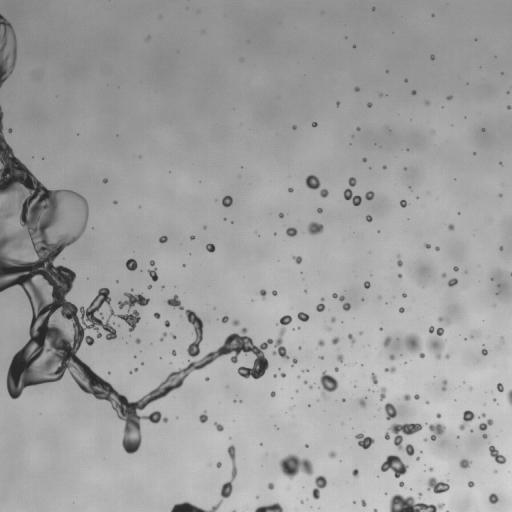droplet: (384, 423, 422, 455), (279, 454, 313, 479), (380, 454, 408, 478), (320, 371, 338, 398), (405, 333, 424, 358), (427, 477, 449, 493), (428, 422, 445, 440), (355, 433, 374, 449), (305, 175, 320, 189), (167, 295, 182, 309), (384, 403, 396, 420), (308, 222, 323, 234), (125, 258, 137, 270), (147, 268, 158, 281), (222, 195, 232, 207), (297, 312, 309, 321), (488, 493, 498, 503), (286, 227, 297, 236), (459, 459, 470, 468), (365, 191, 374, 200), (206, 243, 215, 252), (383, 336, 391, 346), (348, 177, 356, 186), (448, 278, 457, 286), (316, 302, 324, 311), (199, 413, 207, 422), (214, 423, 223, 431), (438, 317, 448, 324), (385, 366, 395, 373), (320, 189, 328, 197), (158, 236, 167, 243), (359, 398, 366, 407), (293, 256, 301, 263), (343, 302, 350, 310), (260, 289, 266, 298), (352, 468, 358, 477), (221, 316, 228, 323), (332, 337, 339, 344), (317, 339, 324, 346), (337, 354, 343, 362), (497, 383, 503, 391), (400, 200, 406, 207), (364, 281, 370, 288), (403, 394, 410, 400), (329, 451, 335, 458), (366, 215, 372, 221), (448, 224, 454, 230), (154, 312, 160, 318), (481, 349, 487, 355), (468, 481, 474, 487), (268, 483, 274, 489), (397, 259, 402, 266), (164, 320, 169, 327), (232, 320, 239, 325), (470, 333, 477, 338), (424, 243, 430, 248), (292, 358, 297, 364), (270, 391, 275, 397), (361, 500, 366, 506), (312, 122, 317, 127), (317, 208, 322, 213), (453, 266, 458, 271), (272, 290, 277, 295), (399, 307, 404, 312), (171, 350, 176, 355), (389, 354, 394, 359), (414, 394, 419, 399), (216, 462, 221, 467), (399, 482, 404, 487), (150, 260, 154, 266), (430, 54, 434, 59), (354, 87, 359, 91), (411, 90, 416, 94), (367, 102, 371, 107), (103, 178, 107, 183), (288, 188, 293, 192), (279, 213, 283, 218), (331, 317, 335, 322), (171, 334, 176, 338), (136, 338, 140, 343), (281, 372, 285, 377), (436, 413, 440, 418), (482, 434, 487, 438), (507, 105, 511, 109), (292, 125, 296, 129), (8, 128, 12, 132), (382, 165, 386, 169), (190, 235, 194, 239), (435, 246, 439, 250), (442, 273, 446, 277), (147, 285, 151, 289), (402, 293, 406, 297), (445, 354, 449, 358), (334, 367, 338, 371), (429, 467, 433, 471), (447, 96, 452, 99), (372, 508, 377, 511), (362, 158, 366, 161), (113, 200, 116, 204), (6, 213, 9, 217), (481, 413, 485, 416), (336, 102, 339, 105), (499, 247, 502, 250), (398, 274, 401, 277), (378, 296, 381, 299), (326, 327, 329, 330), (319, 356, 322, 359), (134, 368, 137, 371), (205, 377, 208, 380), (372, 7, 375, 9), (404, 79, 407, 81), (426, 101, 428, 104), (357, 127, 359, 130), (500, 162, 502, 165), (499, 194, 502, 196), (491, 277, 493, 280), (501, 337, 503, 340), (304, 381, 307, 383), (309, 386, 312, 388), (342, 399, 345, 401), (416, 457, 419, 459), (419, 493, 421, 496), (204, 226, 206, 228), (321, 298, 323, 300), (359, 332, 361, 334), (274, 375, 276, 377), (470, 387, 472, 389), (426, 401, 428, 403), (424, 439, 426, 441)
ligament: (0, 106, 288, 453), (0, 14, 16, 87), (220, 445, 237, 499), (389, 494, 443, 511), (185, 309, 203, 356), (426, 326, 444, 358), (170, 500, 221, 511), (118, 292, 149, 308), (312, 475, 326, 499), (489, 445, 506, 464), (459, 410, 474, 430), (344, 188, 361, 205), (254, 502, 283, 511), (478, 419, 493, 431), (332, 293, 344, 300), (380, 386, 386, 400), (371, 373, 377, 385), (348, 334, 354, 344), (507, 389, 511, 404), (442, 380, 447, 390), (160, 333, 166, 340), (233, 510, 236, 511)
